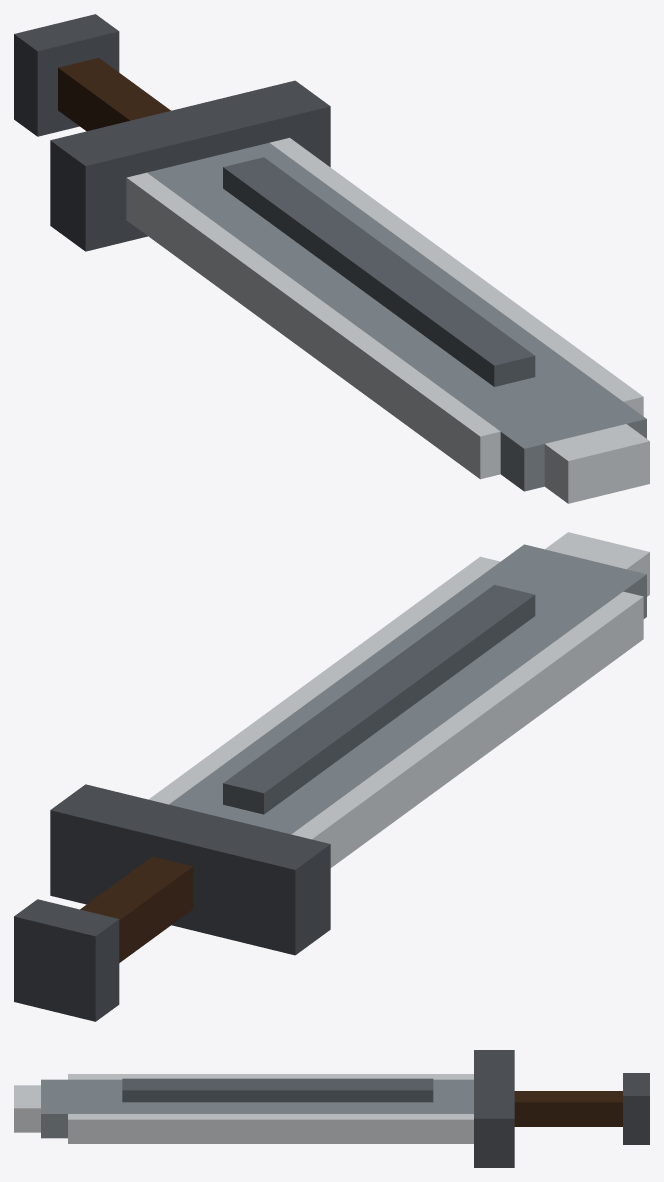
File: vox_greatsword.glb
3 views of the same model, one above another, from view 1: azimuth 30°, elevation 25°; view 2: azimuth 150°, elevation 25°; view 3: azimuth 270°, elevation 25° (orthographic). The views are drawn at different scales.
Visible parts, largest first — view 1: vox_greatsword; view 2: vox_greatsword; view 3: vox_greatsword.
Boxes of the visible parts, bbox=[...] form: vox_greatsword: bbox=[14, 14, 649, 503]; vox_greatsword: bbox=[14, 532, 649, 1021]; vox_greatsword: bbox=[14, 1050, 649, 1167].
Bounding box in the file's own units: 0.24 × 0.08 × 0.94.
